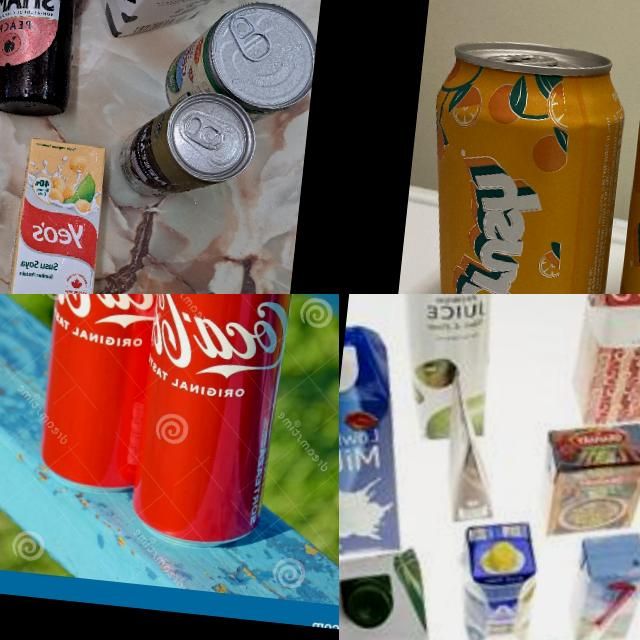aba de lata: (226, 10, 274, 65), (177, 108, 227, 152)
caixinha: (339, 323, 425, 566), (4, 134, 110, 294), (446, 515, 543, 640), (339, 537, 453, 640), (568, 294, 640, 433), (562, 522, 640, 640)
garrafa de vidro: (0, 0, 94, 121)
lata: (402, 31, 632, 294), (128, 294, 299, 557), (33, 294, 195, 497), (160, 0, 319, 132), (117, 82, 258, 205)
tampa plástica: (339, 578, 396, 633), (488, 538, 518, 575), (339, 351, 358, 396)
